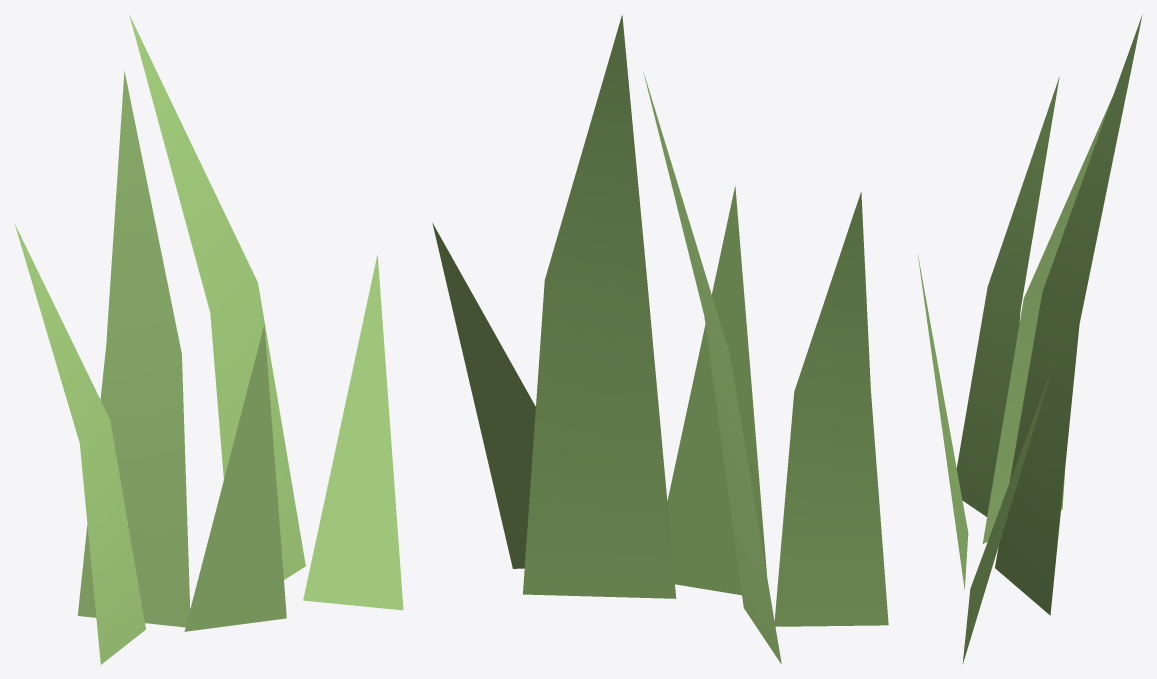
The model's file is Grass_a_TwoS_03.fbx.
The picture shows the model from 3 angles, left to right: view 1: azimuth 30°, elevation 25°; view 2: azimuth 150°, elevation 25°; view 3: azimuth 270°, elevation 25°; orthographic projection. The views are drawn at different scales.
Parts seen in each view (by area): view 1: Grass_a_TwoS_03; view 2: Grass_a_TwoS_03; view 3: Grass_a_TwoS_03.
Boxes of the visible parts, box(x1,y1,x2,y2) form: Grass_a_TwoS_03: box(15, 15, 403, 664); Grass_a_TwoS_03: box(432, 15, 888, 664); Grass_a_TwoS_03: box(917, 15, 1142, 664).
Bounding box in the file's own units: 42.08 × 64.05 × 23.22.
